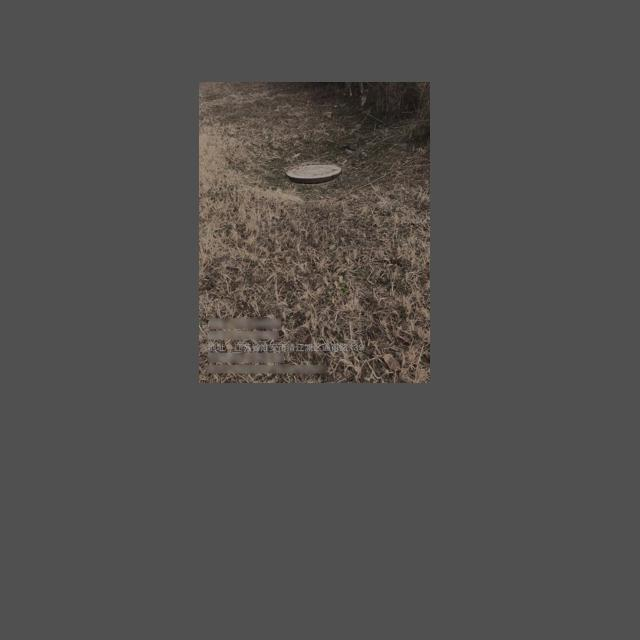uncovered: (286, 163, 342, 185)
